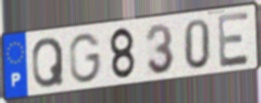0: (182, 17, 213, 71)
3: (144, 21, 176, 77)
8: (108, 25, 138, 83)
E: (216, 9, 252, 70)
G: (67, 32, 103, 85)
Q: (31, 36, 66, 91)
